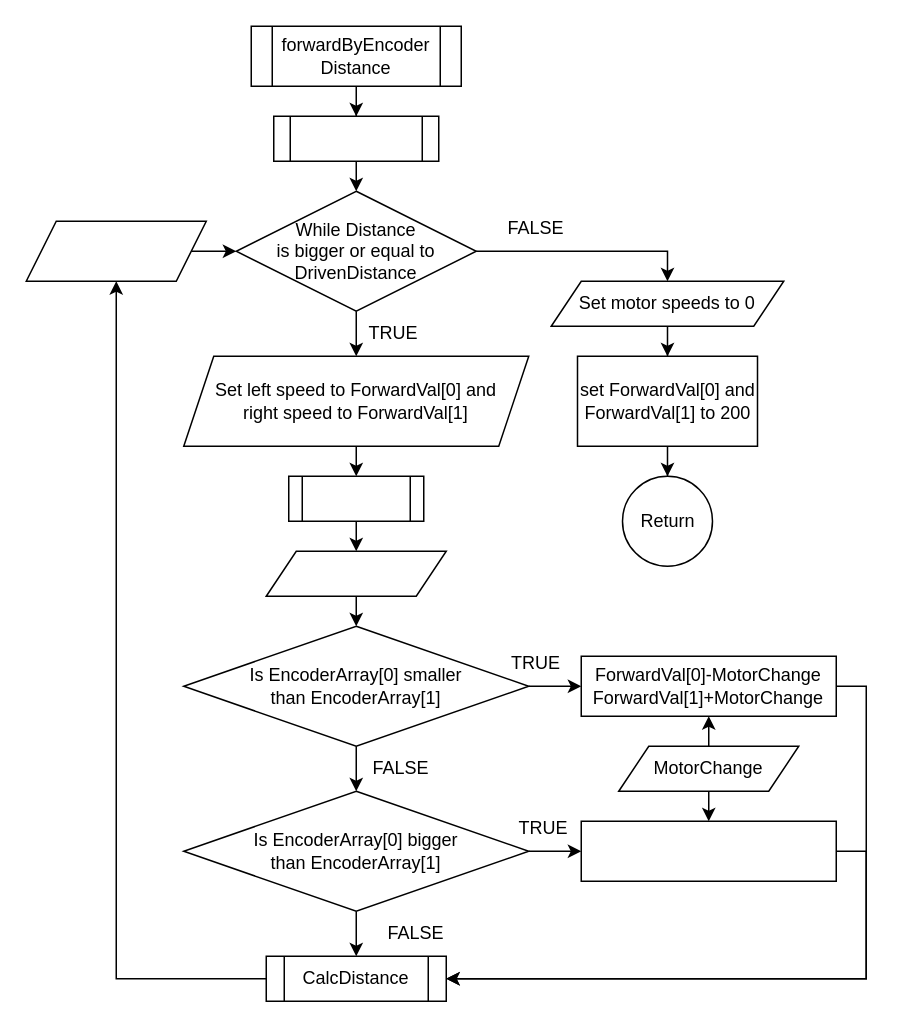
This 905x1028 diagram has some shape labels left out. Here are the shapes that lost their labels. From the top down, the centre of each, then its label:
pixel 355 138: encoderReset
pixel 115 250: DrivenDistance
pixel 355 498: Encoders
pixel 355 573: EncoderArray
pixel 708 850: ForwardVal[0]+MotorChange ForwardVal[1]-MotorChange
